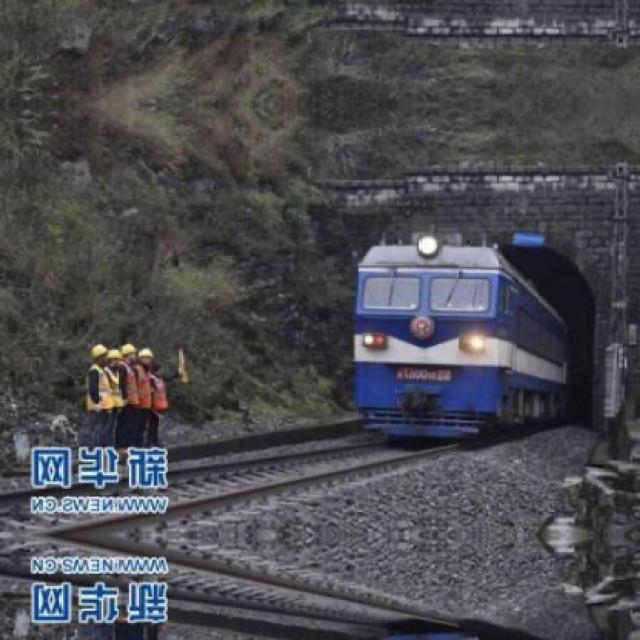helmet: (88, 342, 108, 368), (137, 345, 158, 367), (108, 348, 126, 372), (122, 341, 140, 365)
